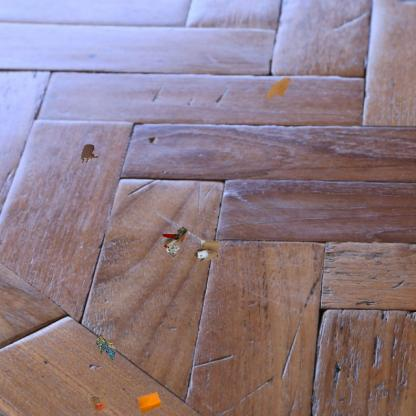dirty: (160, 225, 190, 260), (192, 238, 223, 264), (94, 332, 118, 362), (136, 391, 164, 415), (87, 394, 111, 415)
liquid: (266, 76, 292, 100), (80, 143, 99, 164)
